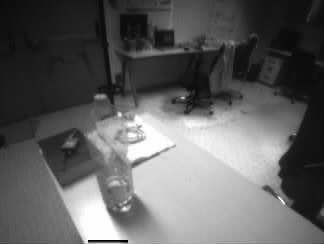Bottle: (91, 98, 133, 208)
